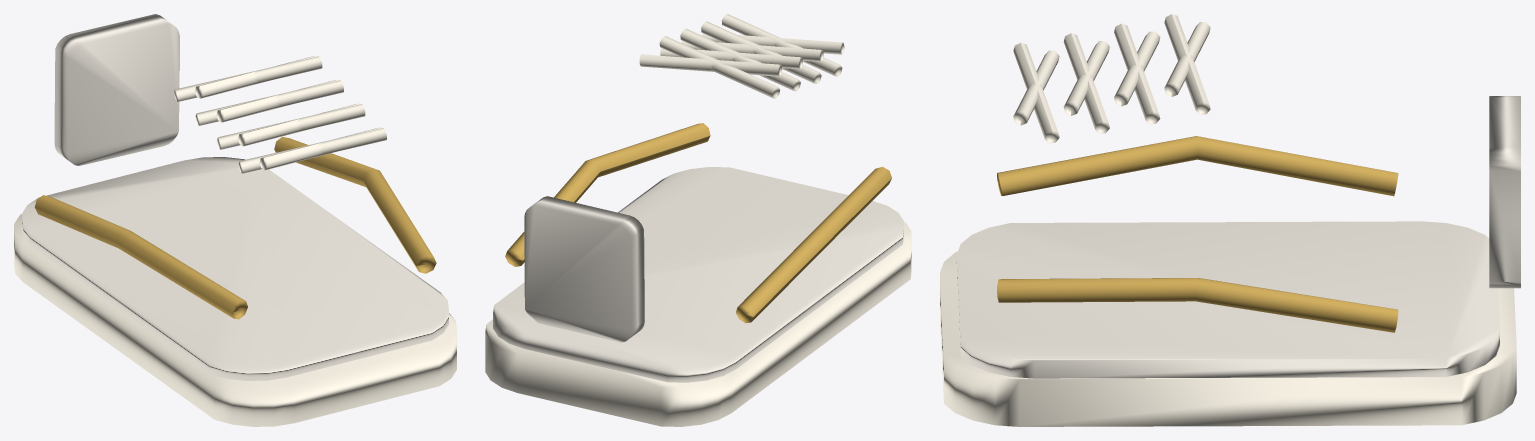
File: prime_right_shoe_trim.glb
3 renders of one model, left to right at view 1: azimuth 30°, elevation 25°; view 2: azimuth 150°, elevation 25°; view 3: azimuth 270°, elevation 25°, orthographic. The views are drawn at different scales.
Parts seen in each view (by area): view 1: prime_right_shoe_trim; view 2: prime_right_shoe_trim; view 3: prime_right_shoe_trim.
Part boxes in pixels (box(x1,y1,x2,y2)): prime_right_shoe_trim: box(14, 14, 456, 426); prime_right_shoe_trim: box(485, 14, 911, 426); prime_right_shoe_trim: box(940, 14, 1520, 426).
Size of the model in its own units: 0.172 by 0.1622 by 0.277.
